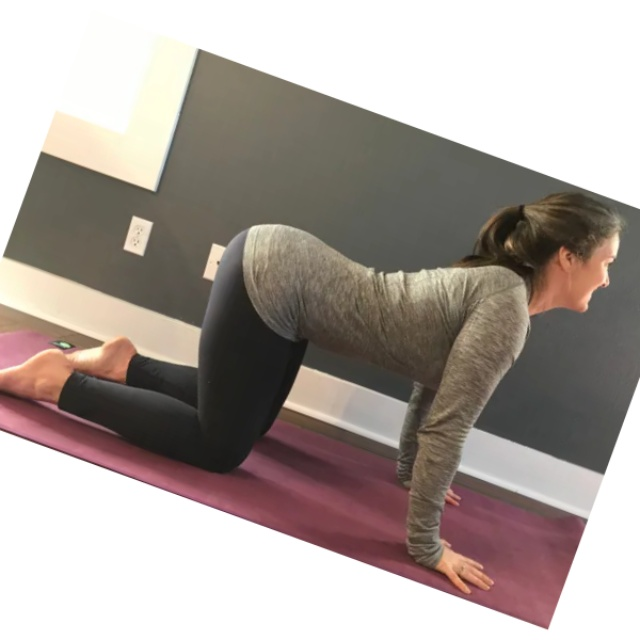Cow_Pose: (7, 194, 620, 592)
